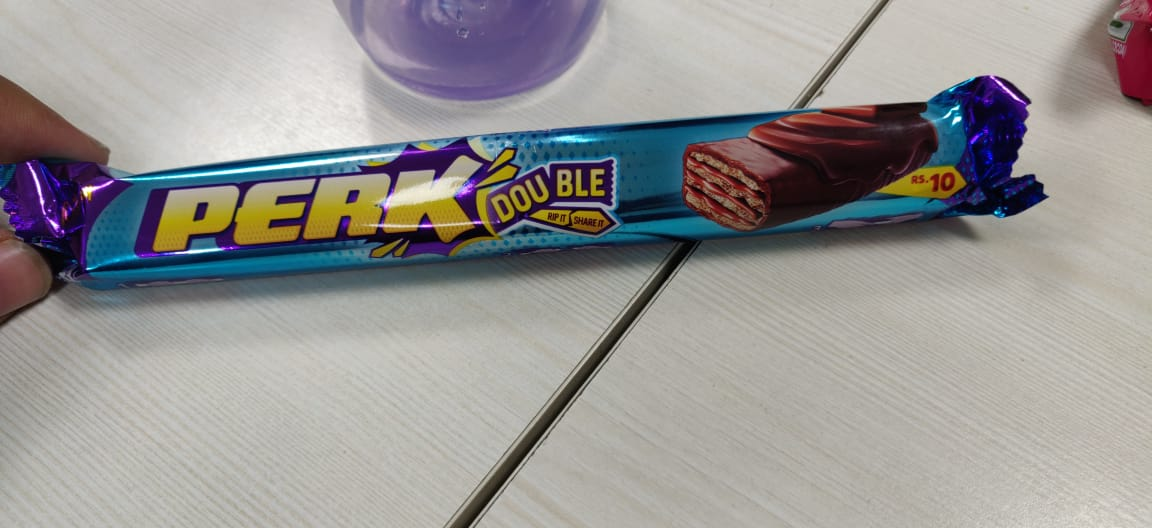perk: (1, 71, 1056, 299)
